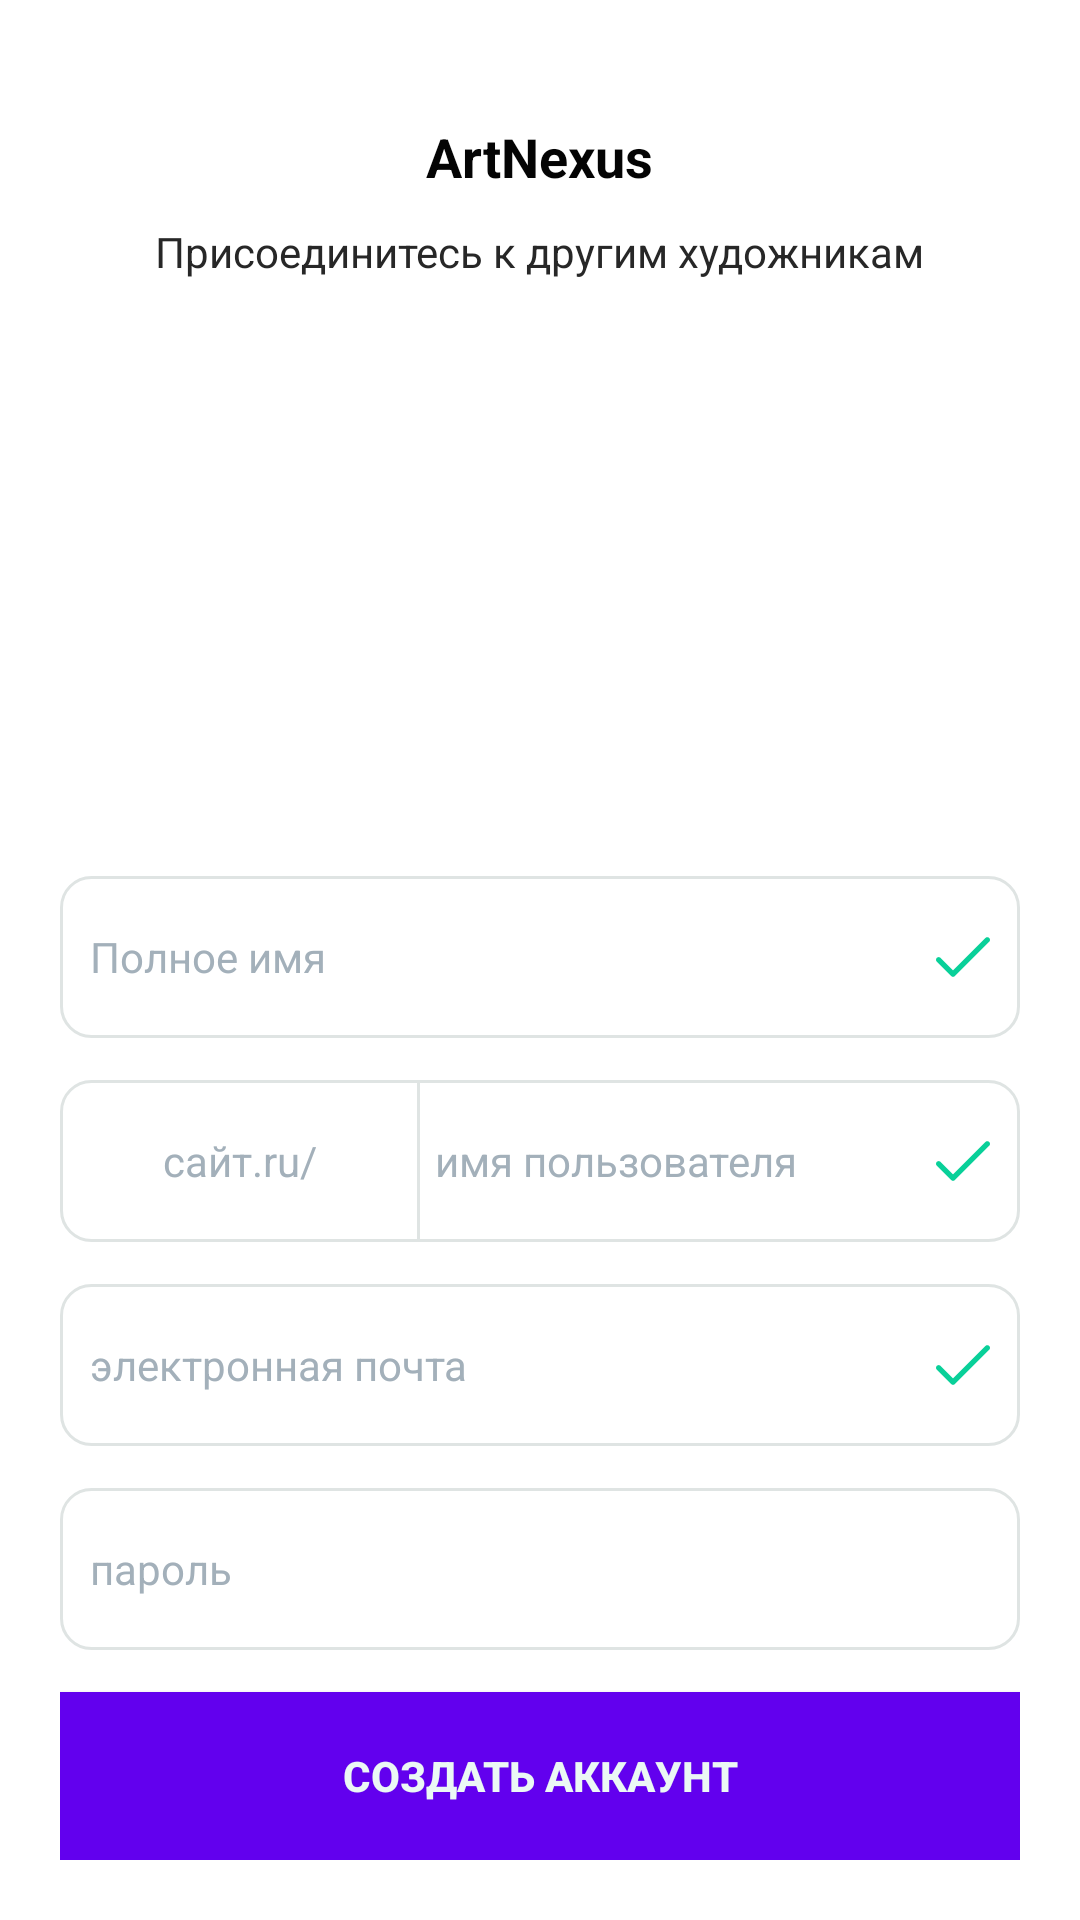

Icon click points for this 1080px x 1920px phone screenshot, format [x,y]:
checkmark: [963,957], [963,1161], [963,1365]
